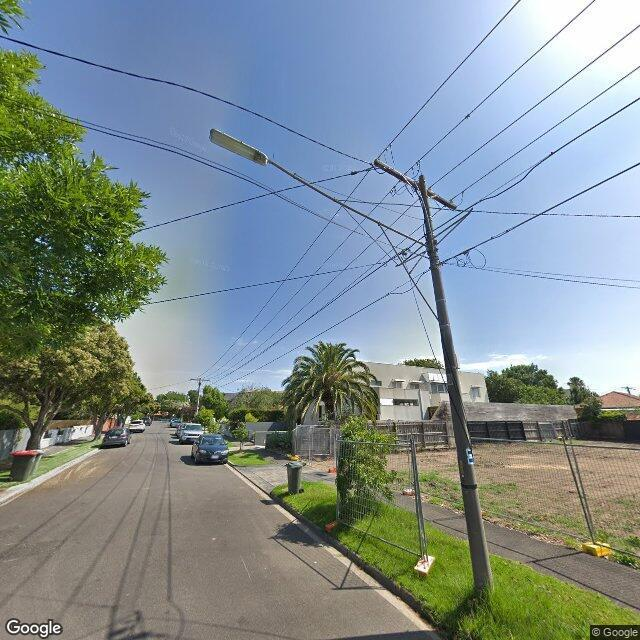concrete-pole: (419, 175, 494, 590), (197, 377, 202, 412)
crossarm: (367, 143, 464, 211), (190, 378, 210, 382)
streetlight: (208, 128, 430, 251)
